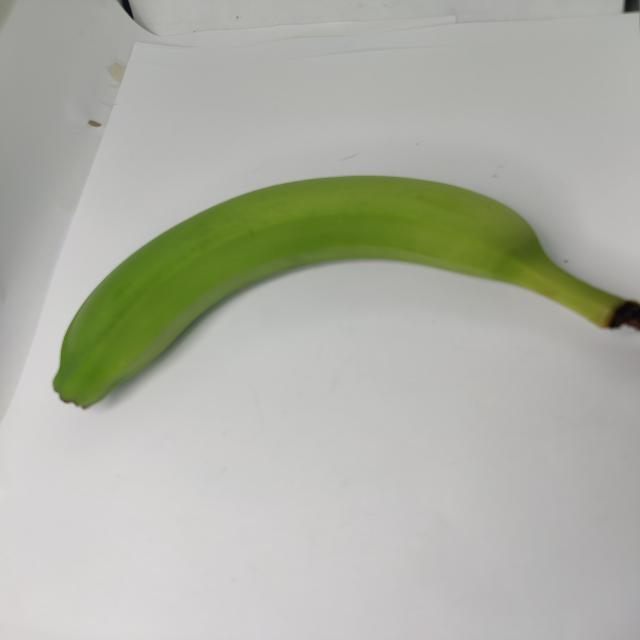raw: (25, 158, 640, 433)
